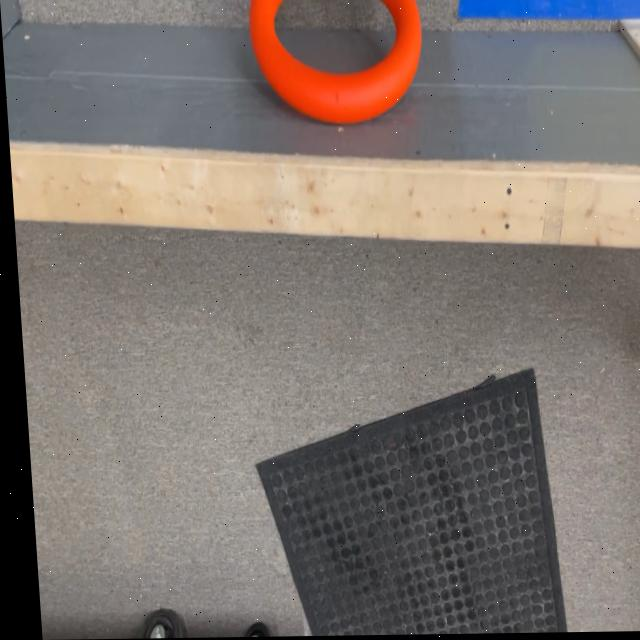note: (247, 0, 427, 126)
